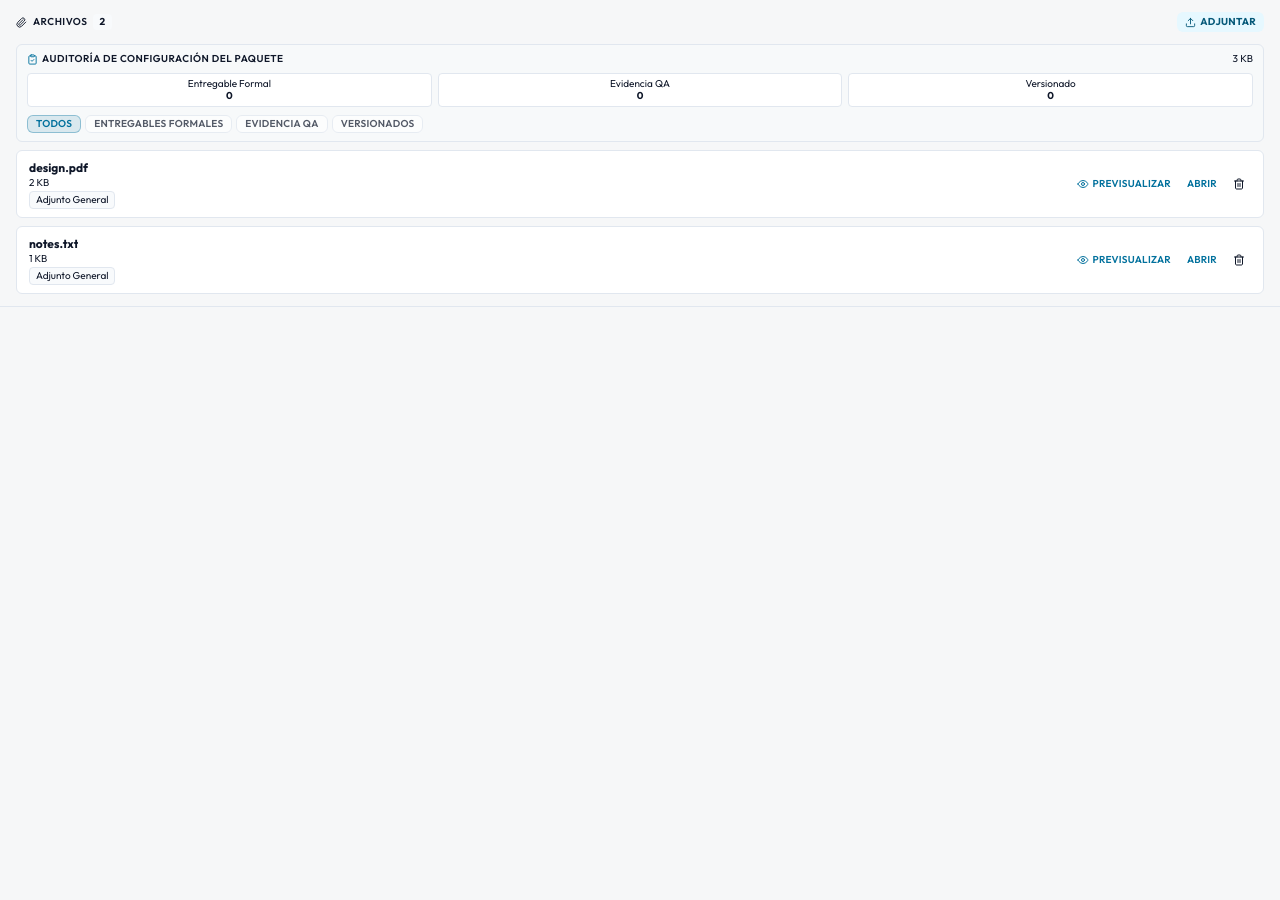
Test: TaskAttachmentSection › abre el lector in-app al hacer clic en el nombre del archivo
Step 1. Click the button "notes.txt" → (54,244), box [29,235,78,253]
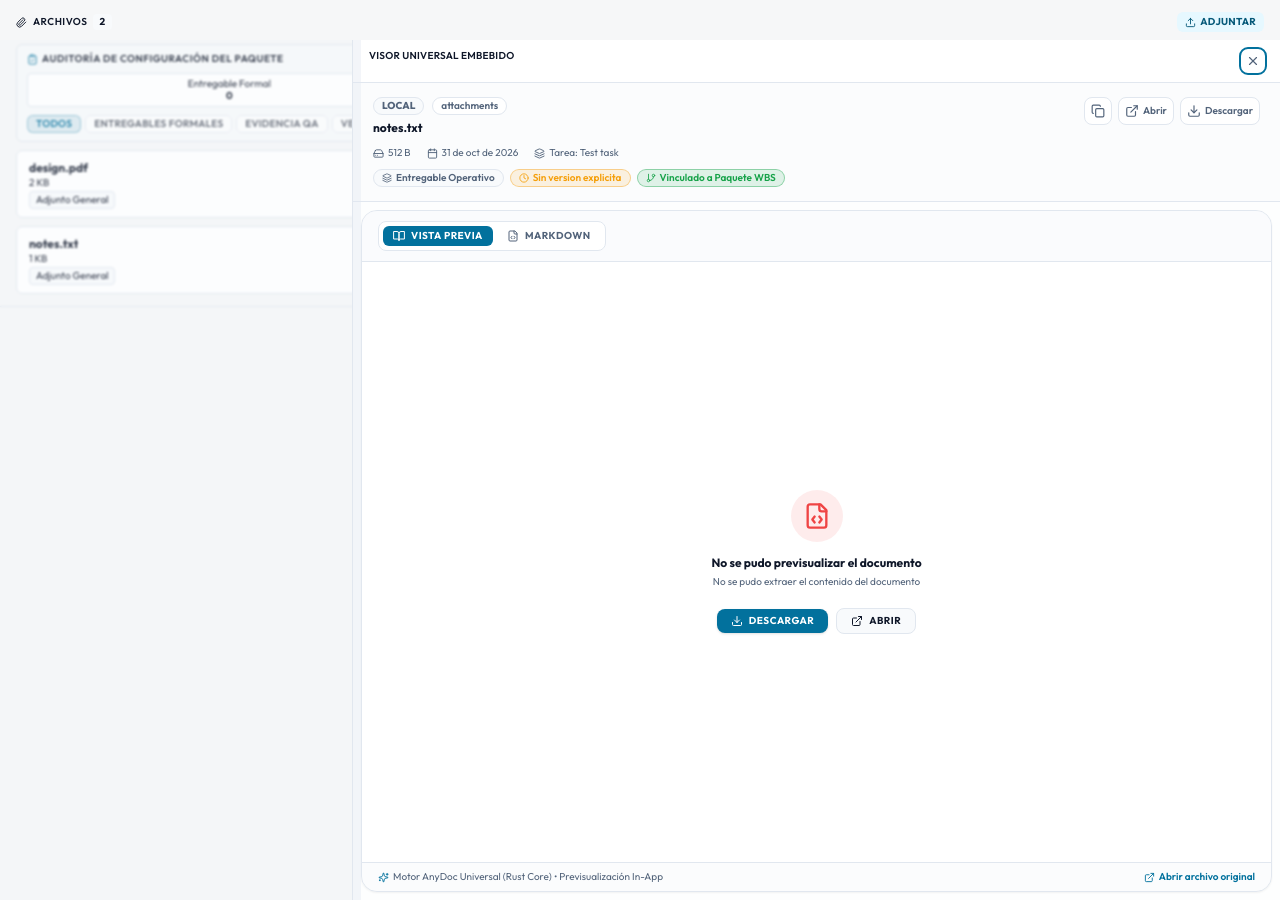
Check: the dialog "Visor Universal Embebido" is shown
